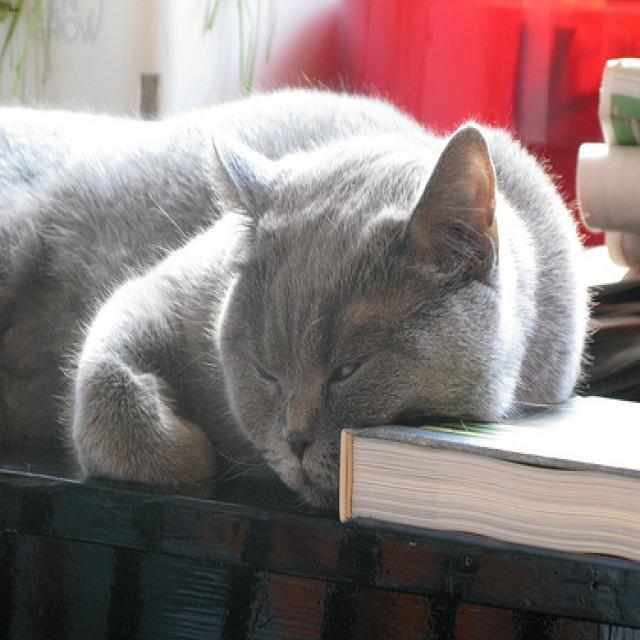British_Shorthair: (210, 121, 498, 507)
